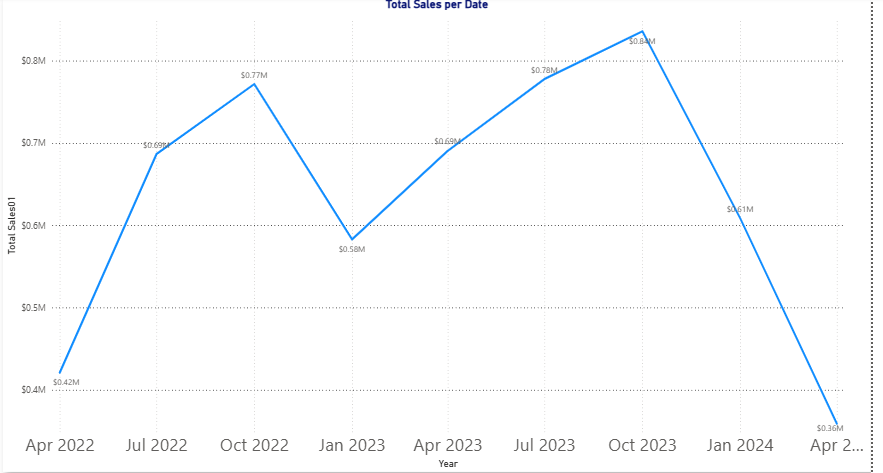

This screenshot's page, from the dashboard's own definition file:
{"tool":"powerbi","page":{"name":"Page 9","canvas":[1280,720],"ordinal":8},"visuals":[{"type":"lineChart","title":"Total Sales per Date ","fields":{"Y":["Model.Total Sales01"],"Category":["dim-date02.Date.Variation.Date Hierarchy.Year","dim-date02.Date.Variation.Date Hierarchy.Quarter","dim-date02.Date.Variation.Date Hierarchy.Month"]},"box":[10.2,24.9,1270.2,695.1],"z":0}]}

Visuals, with their boxes on the page's 1280x720 design canvas (x1, y1, x2, y2). These are canvas units, not pixel positions in the 883x473 screenshot, which may show the page scaled, cropped or inside an application window:
"Total Sales per Date " lineChart: box=[10, 25, 1280, 720]
